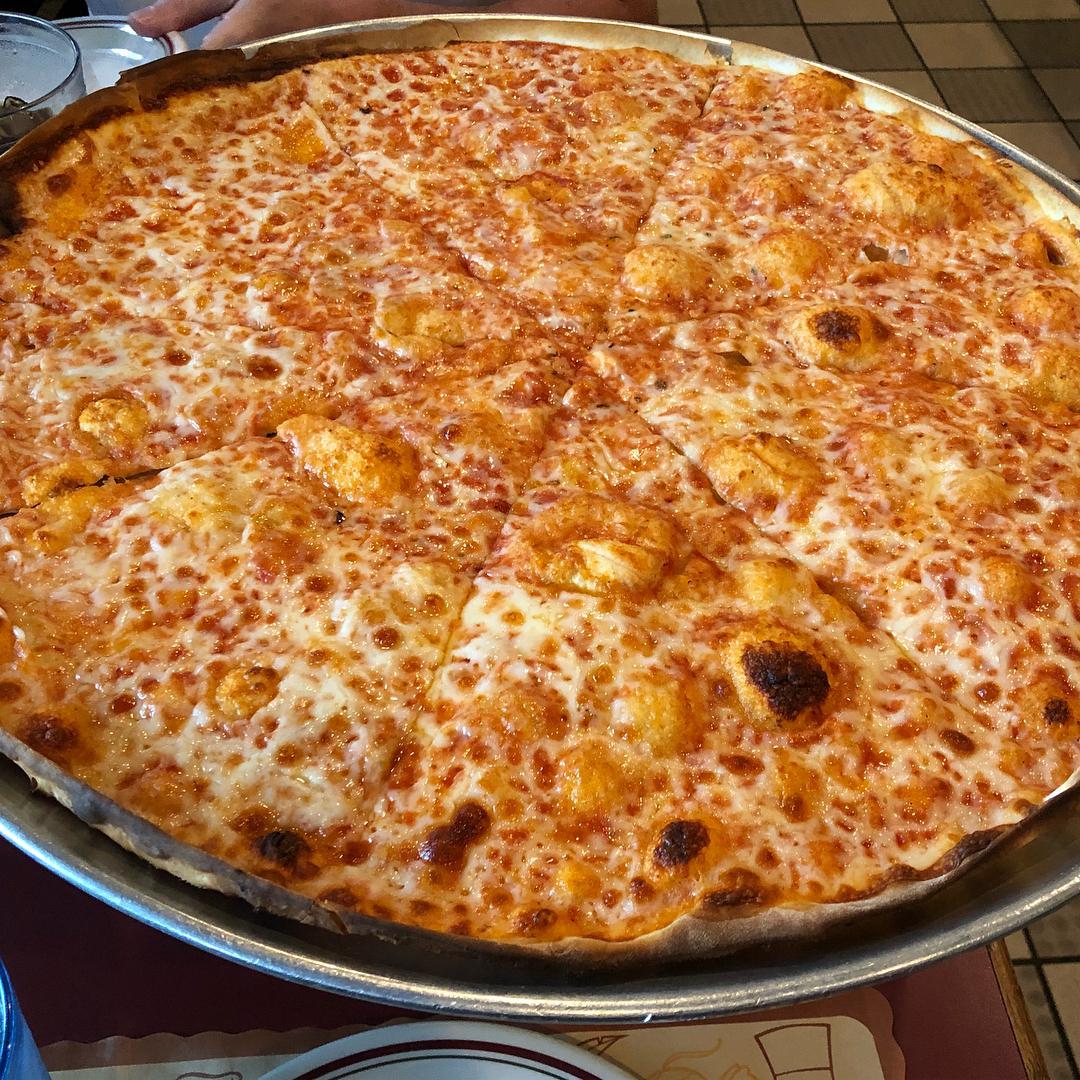Pizza: (0, 0, 1080, 958)
